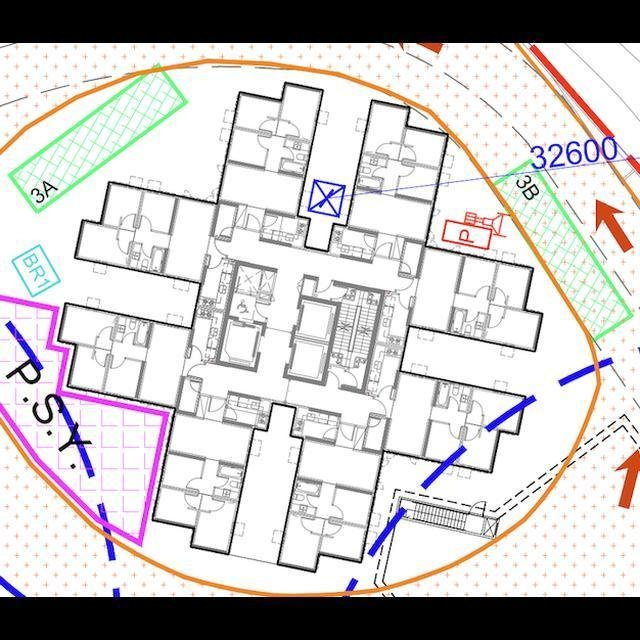tower_crane: (306, 179, 348, 219)
